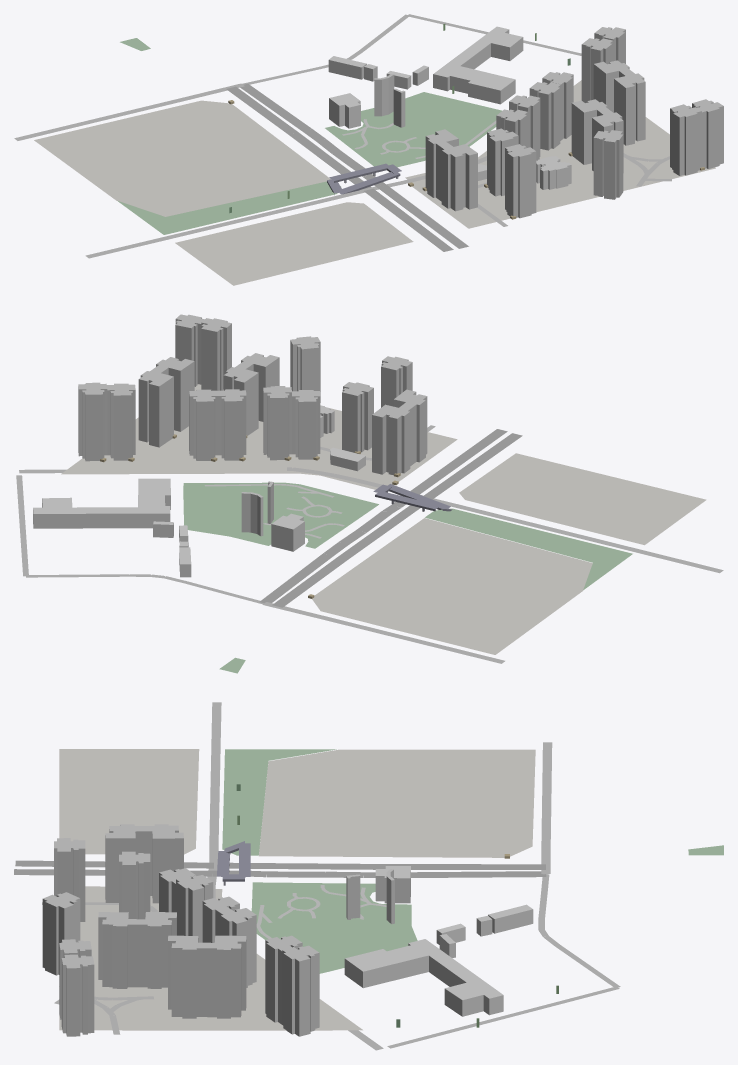
The picture shows the model from 3 angles, top to bottom: view 1: azimuth 30°, elevation 25°; view 2: azimuth 150°, elevation 25°; view 3: azimuth 270°, elevation 25°; orthographic projection. The views are drawn at different scales.
Size of the model in its own units: 618 by 64 by 534.
